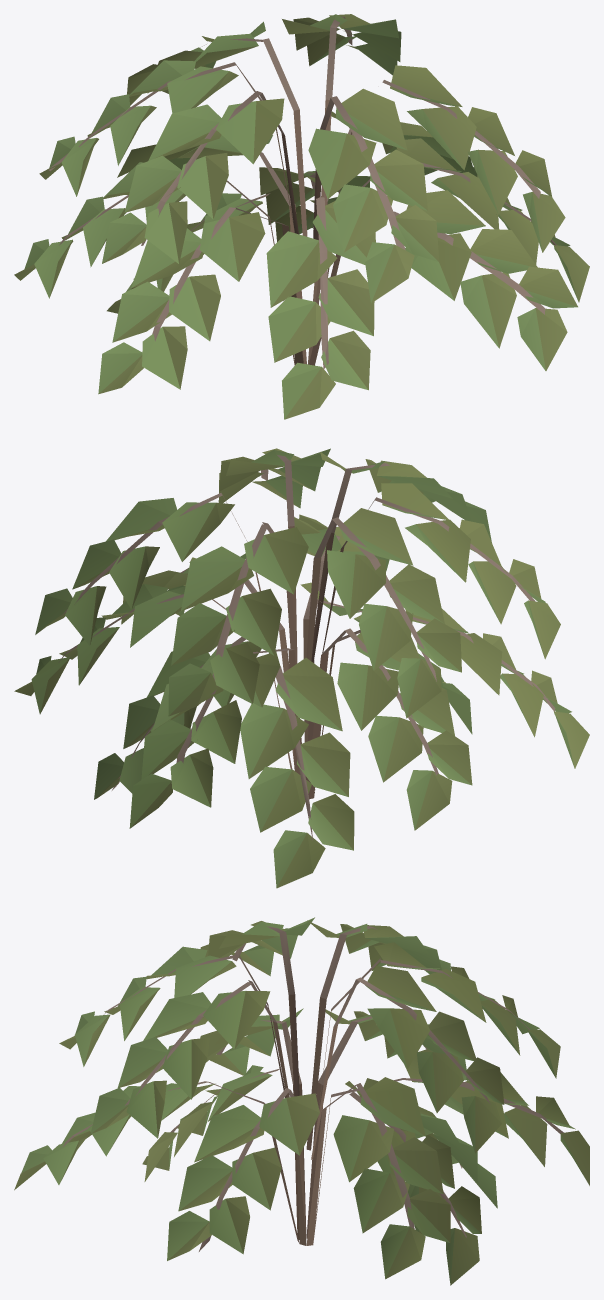
3 views of the same model, one above another, from view 1: azimuth 30°, elevation 25°; view 2: azimuth 150°, elevation 25°; view 3: azimuth 270°, elevation 25° (orthographic). The views are drawn at different scales.
Visible parts, largest first — view 1: model; view 2: model; view 3: model.
Boxes of the visible parts, x1,y1,x2,y2 form: model: [14, 14, 589, 419]; model: [14, 448, 589, 888]; model: [14, 917, 589, 1285].
Bounding box in the file's own units: 1.77 × 1.12 × 2.
